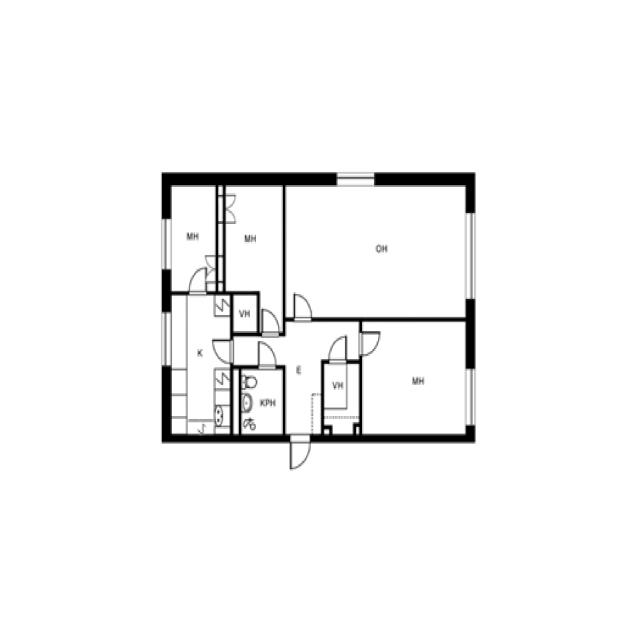door: (286, 432, 312, 472), (289, 289, 314, 325), (357, 328, 383, 359), (258, 305, 281, 338), (210, 336, 235, 366), (256, 338, 278, 371), (327, 334, 350, 365), (187, 264, 209, 296), (222, 195, 240, 228)
window: (461, 206, 481, 306), (462, 361, 480, 433), (158, 305, 175, 371), (330, 168, 380, 189), (160, 213, 174, 276)
zone: (277, 179, 474, 319), (362, 316, 471, 442), (168, 290, 233, 439), (223, 182, 286, 290), (166, 181, 222, 294), (236, 365, 284, 438), (323, 359, 362, 438), (231, 294, 259, 333)
